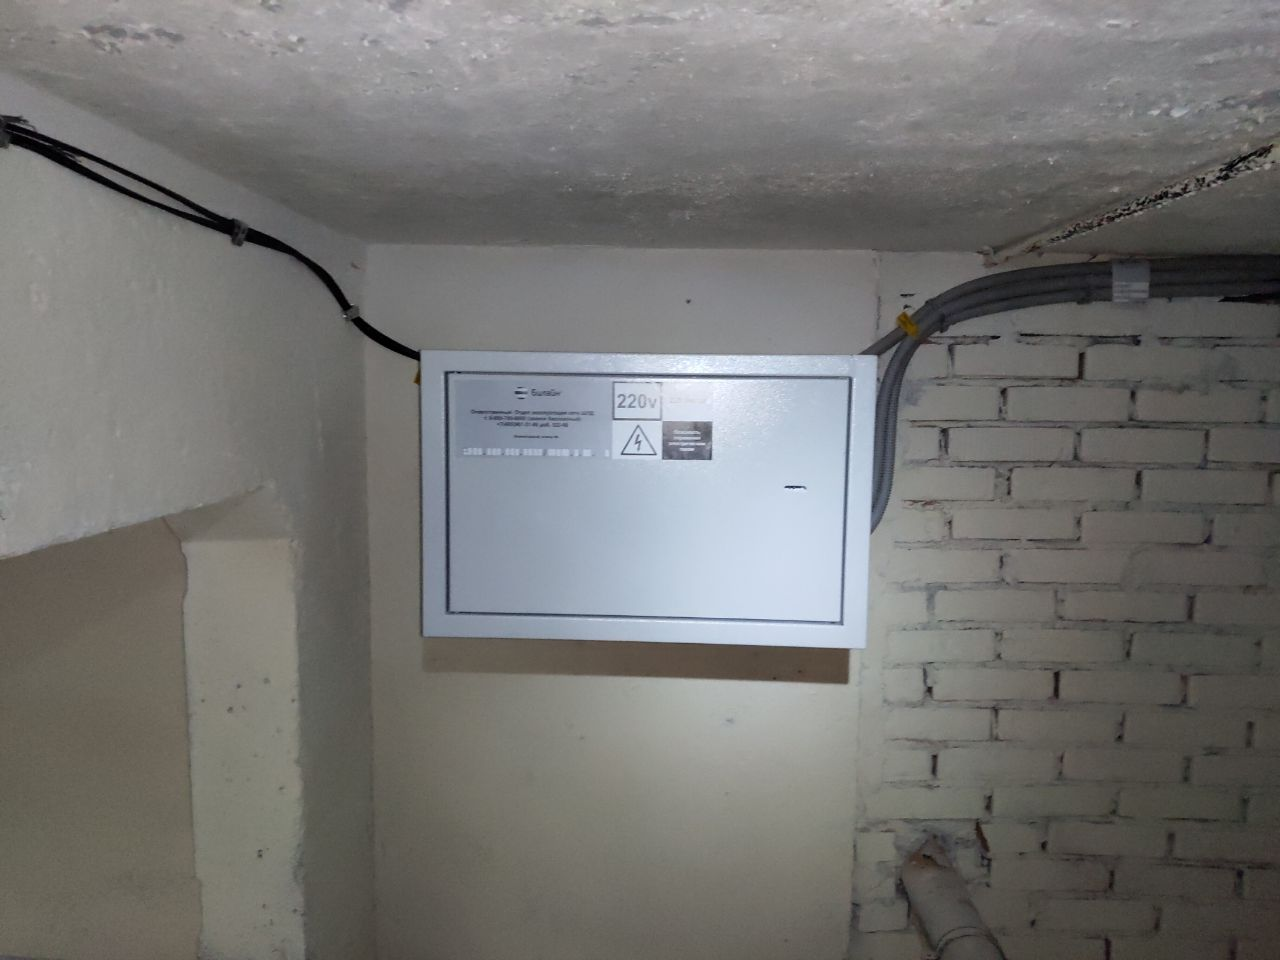shta-7m: (404, 337, 884, 659)
